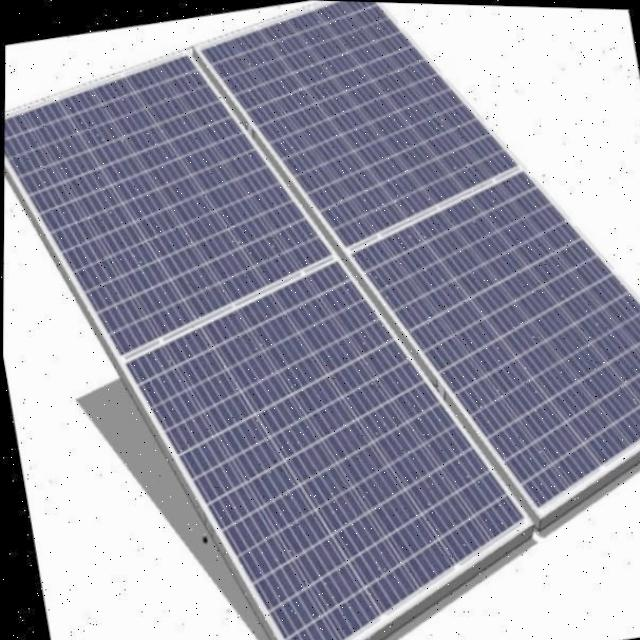Normal Solar Panel: (118, 259, 528, 640), (3, 17, 336, 375), (347, 168, 640, 510), (194, 0, 520, 275)
